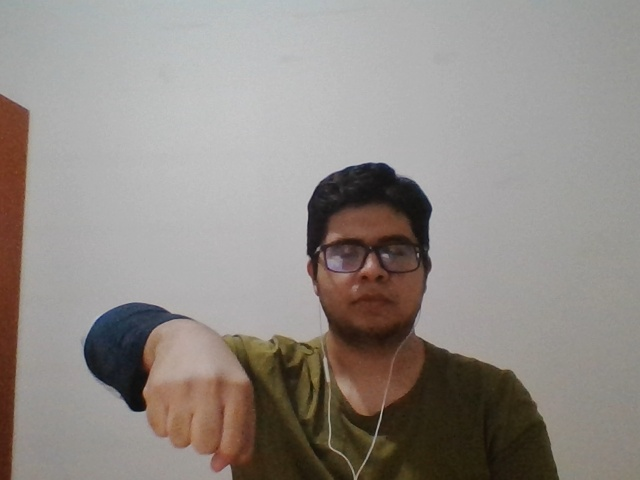Yes: (129, 294, 262, 475)
